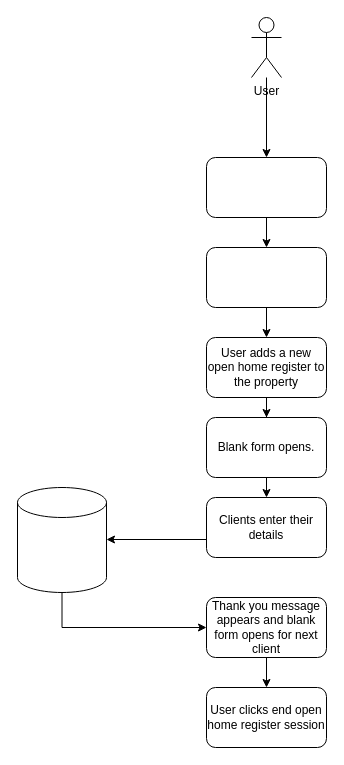
This 344x765 diagram has some shape labels left out. The shapes that lost their labels are listed below. From the top down, each one's centre as x and y in pixels, then its label:
the point at 266,187: Open home page
the point at 266,277: User adds a new property to their open homes.
the point at 61,539: Server checks if clients are new and adds new clients to database.
